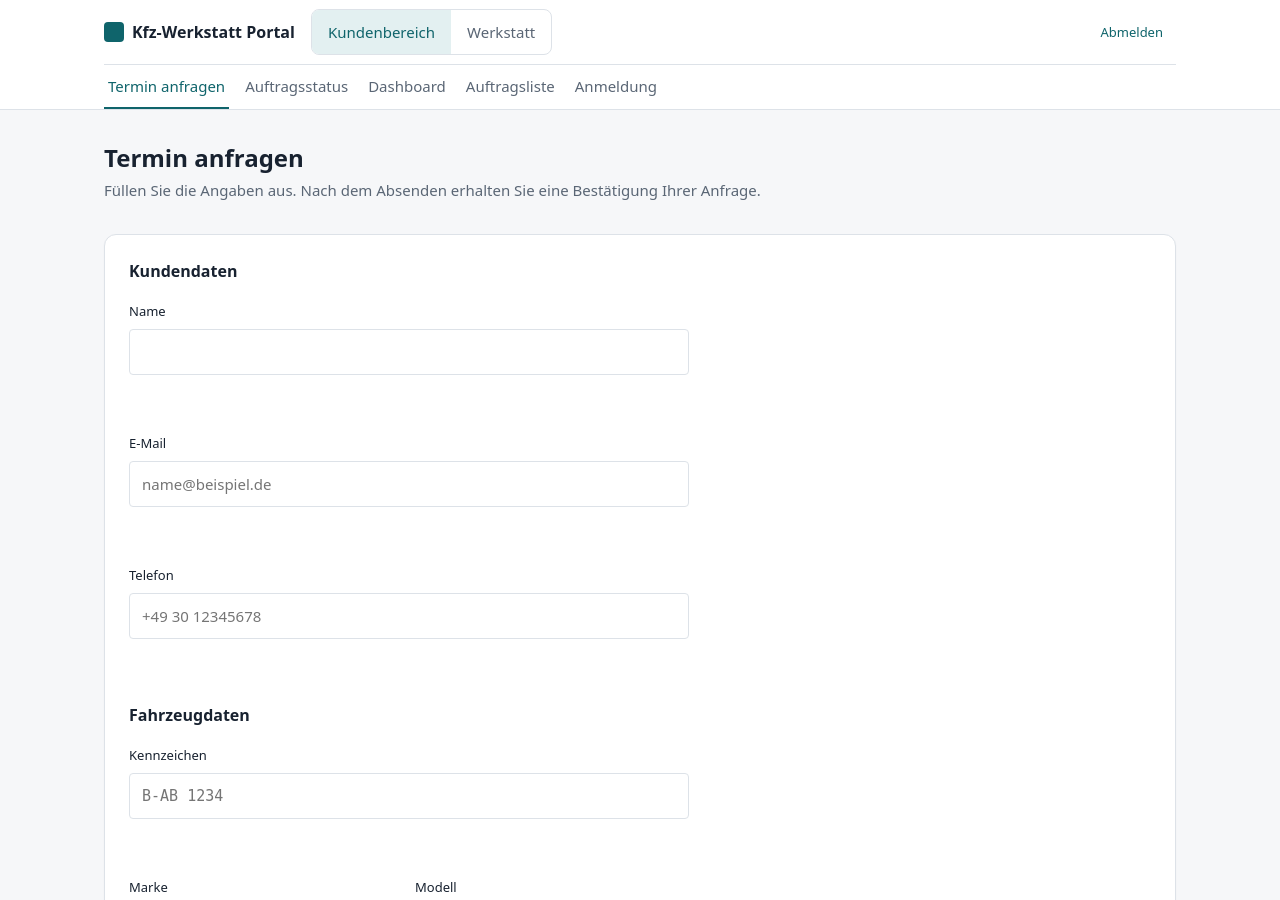
Scenario: area switch › opens the workshop area for a signed-in employee when Werkstatt is clicked
The width and height of the screenshot is (1280, 900).
Click the link "Werkstatt". click: coordinates (501, 32)
box: top-left (467, 22), bottom-right (535, 42)
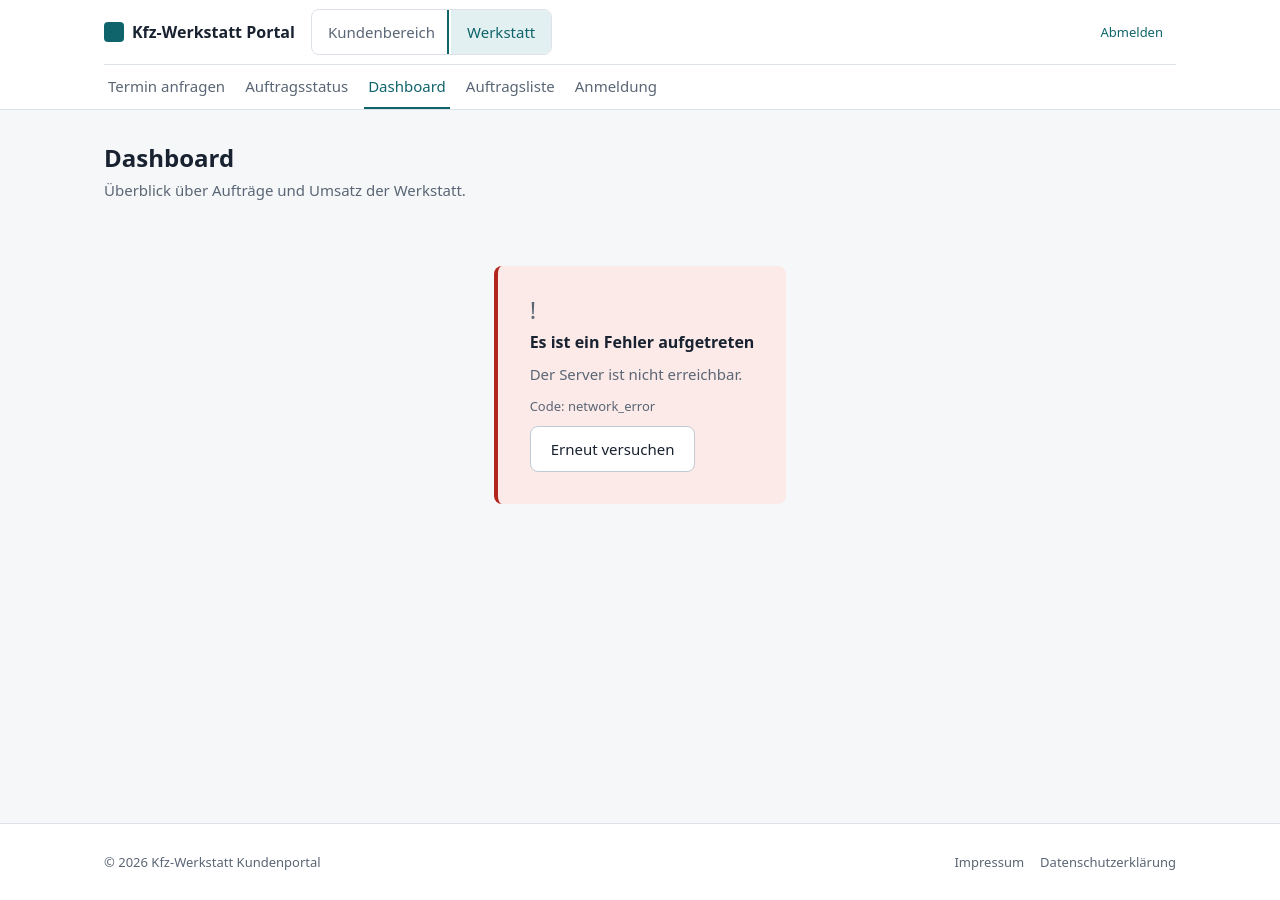
Now the heading "Dashboard" is shown, box top-left (104, 141), bottom-right (234, 174)
